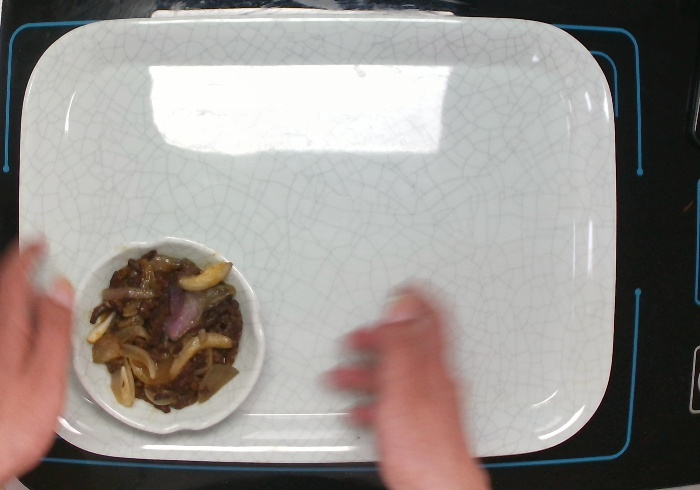JYsf-Ao_Yuan_Wan: (67, 233, 268, 436)
